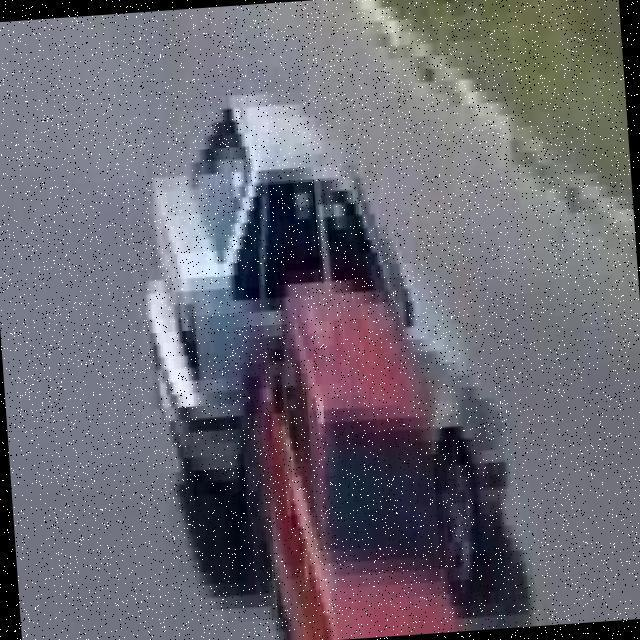accident: (123, 78, 513, 640)
